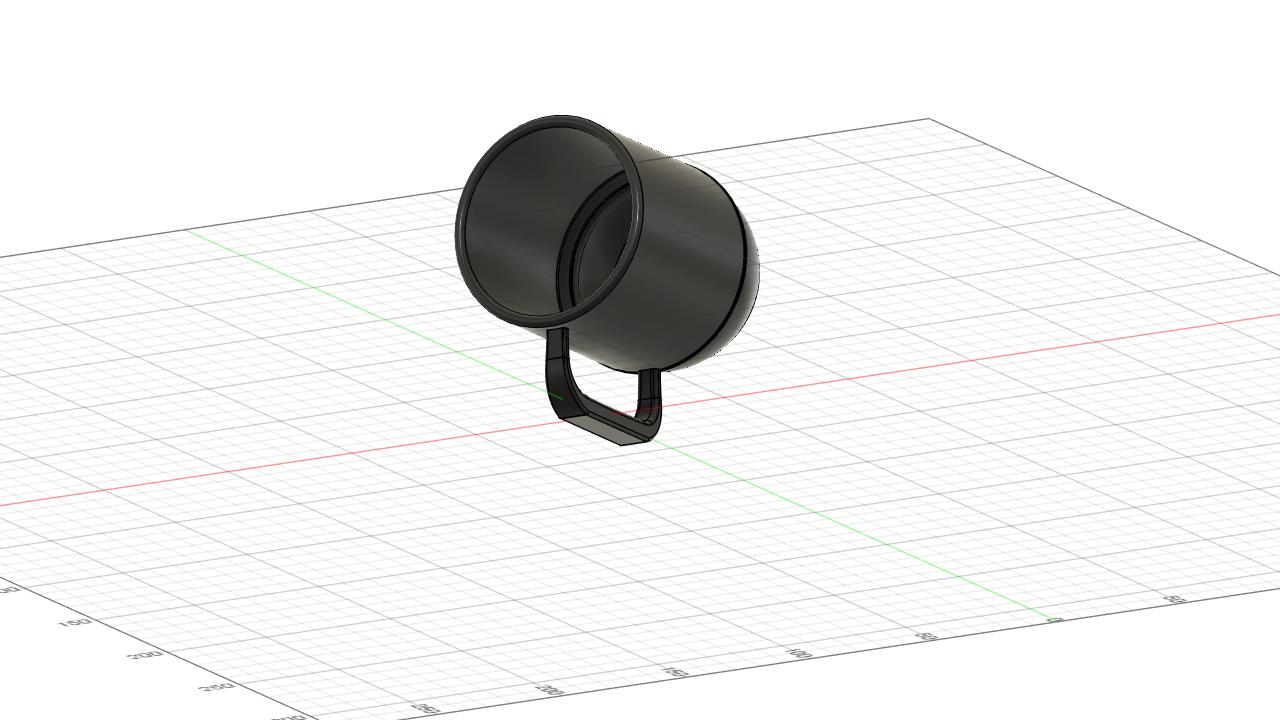mug-real100-3d100: (455, 118, 759, 444)
